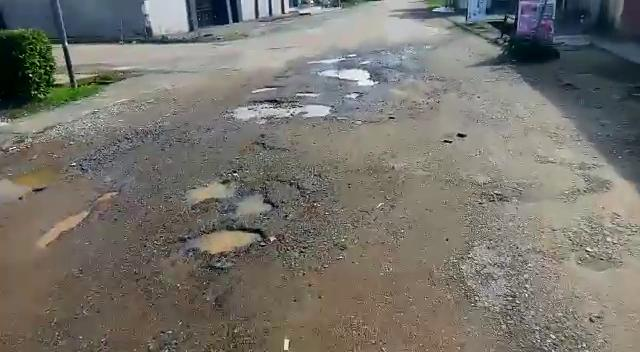pothole: (184, 175, 276, 214), (186, 224, 267, 256), (225, 98, 332, 122), (323, 66, 384, 85), (312, 56, 353, 66), (250, 84, 285, 92)
